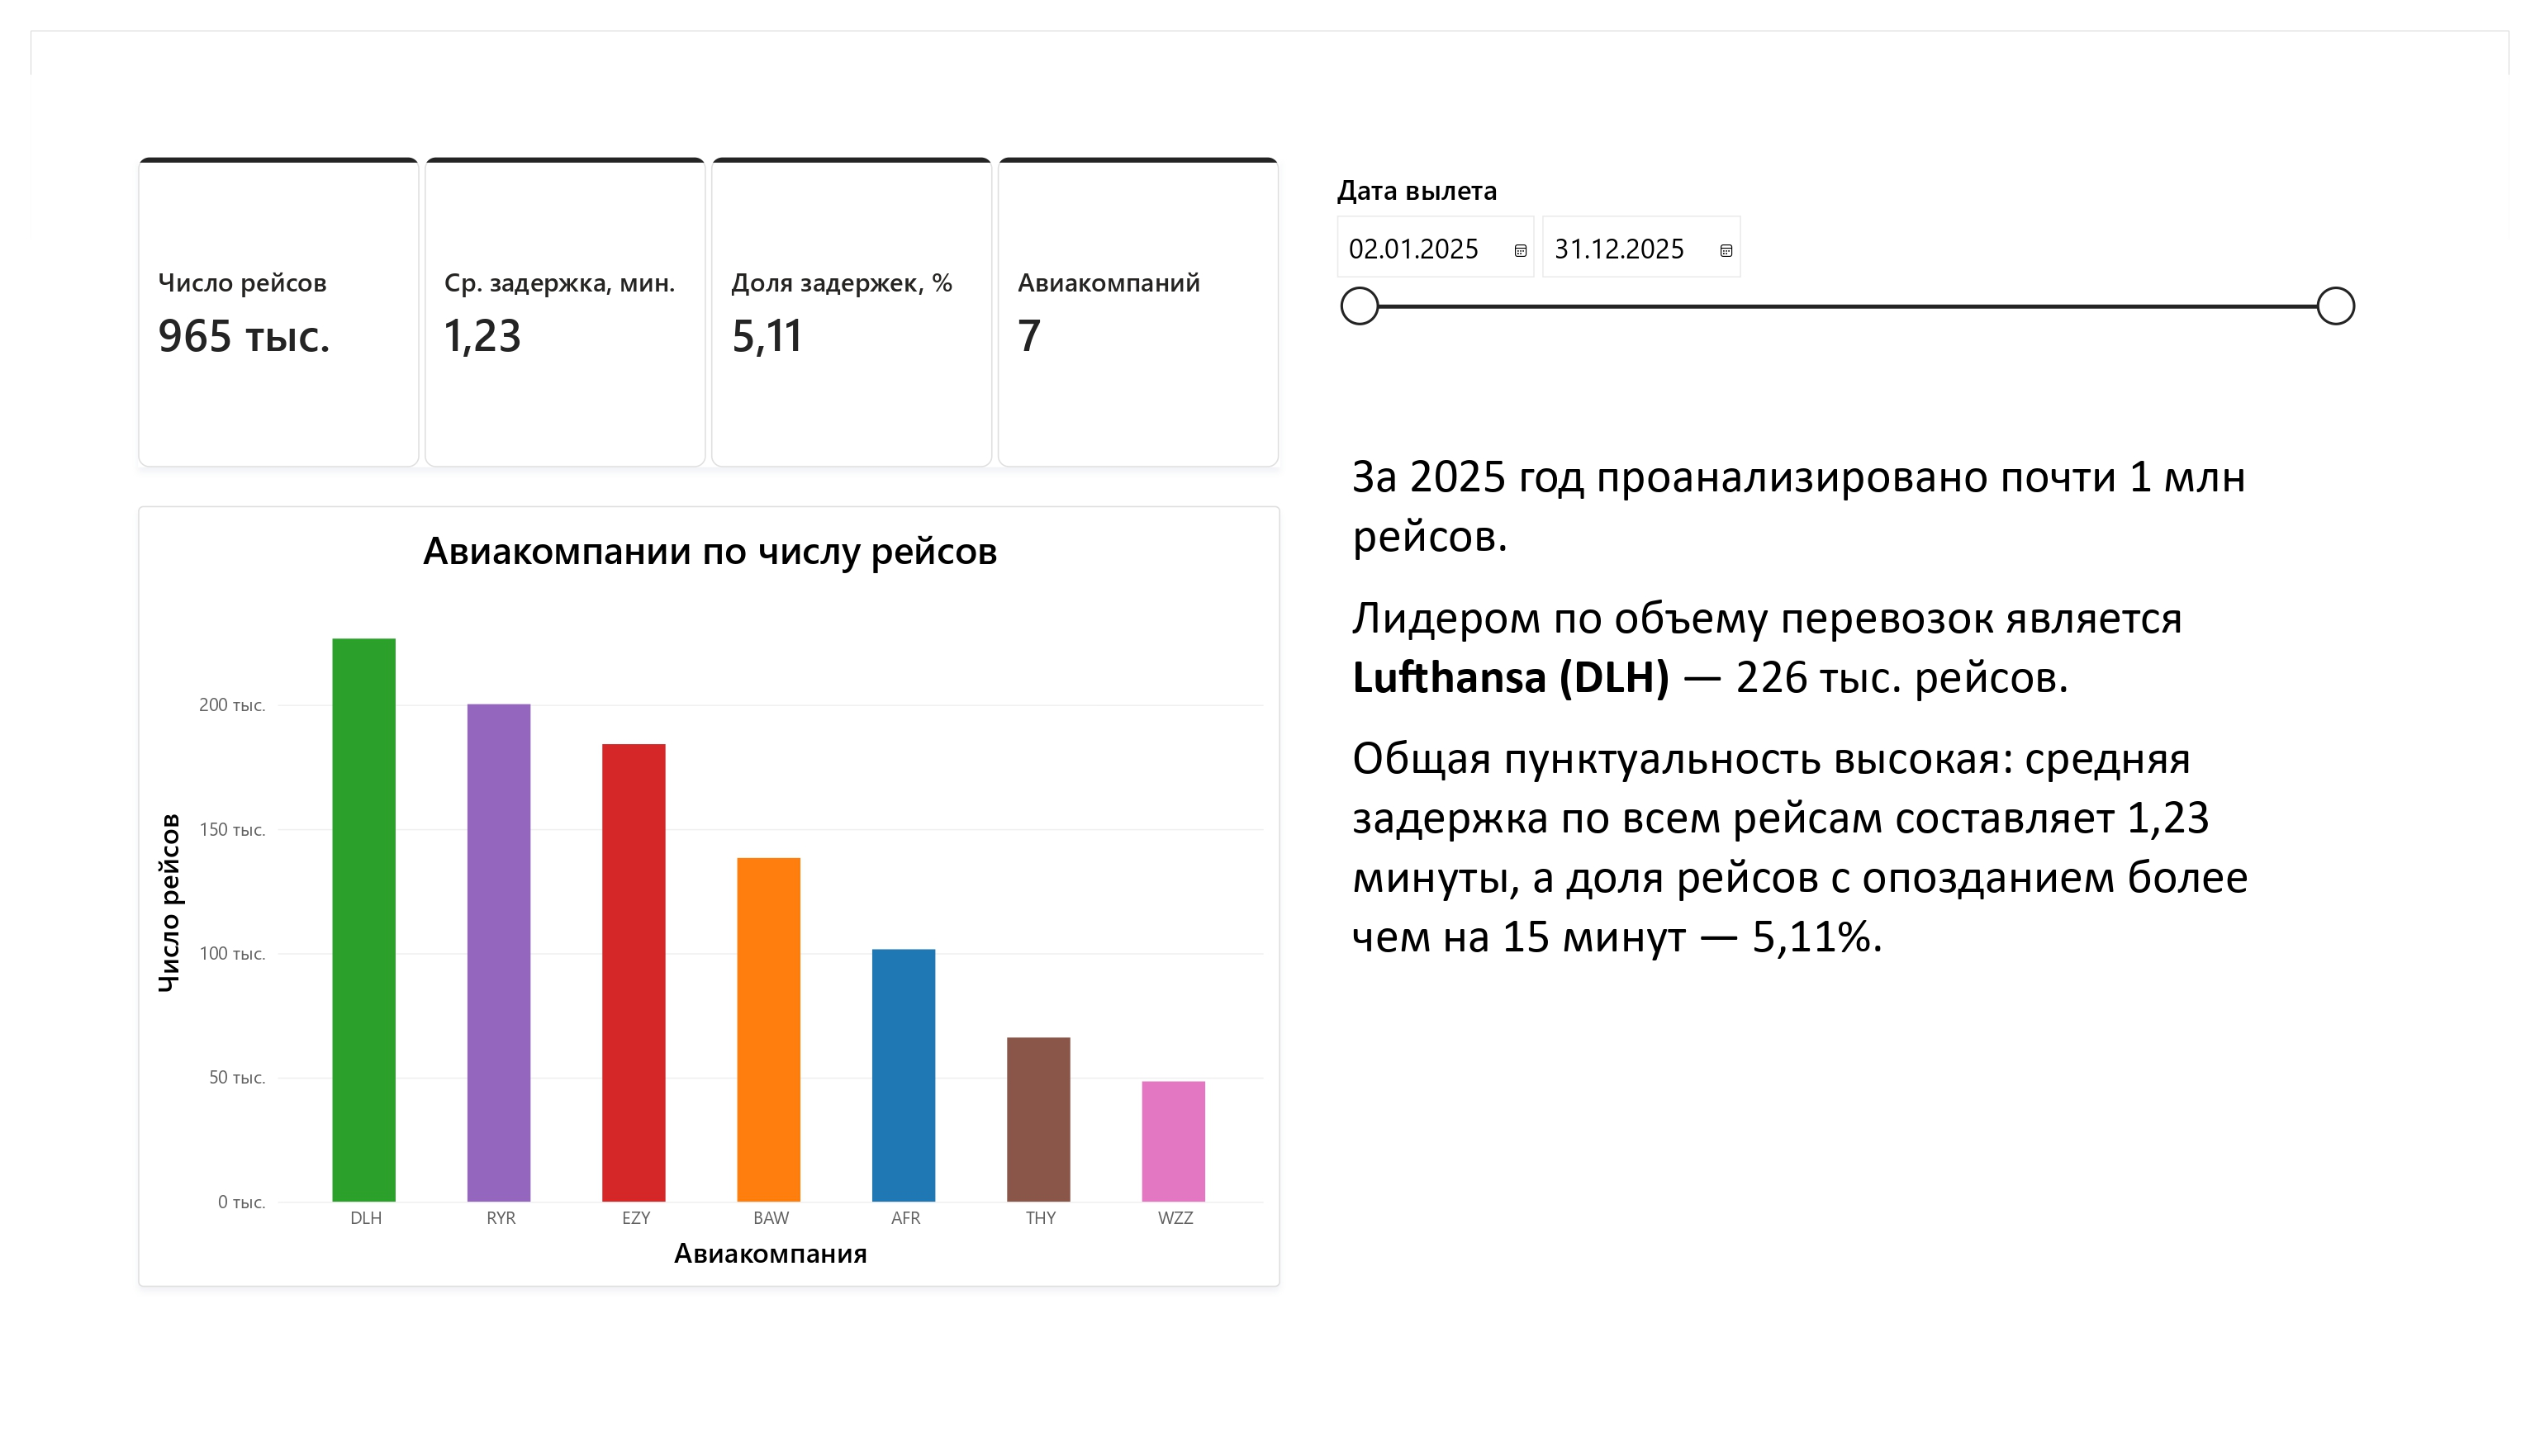

This screenshot's page, from the dashboard's own definition file:
{"tool":"powerbi","page":{"name":"Обзор","canvas":[1920,1080],"ordinal":0},"visuals":[{"type":"cardVisual","fields":{"Data":["flights.Total Flights","flights.Avg Delay (min)","flights.Late Rate %","flights.Total Airlines"]},"box":[82.5,97.5,885,240],"z":0},{"type":"columnChart","title":"Авиакомпании по числу рейсов","fields":{"Category":["flights.icao_operator"],"Y":["flights.Total Flights"]},"box":[82.5,367.5,885,605],"z":1000},{"type":"slicer","fields":{"Values":["flights.dof"]},"box":[1004,108,800,145],"z":2000},{"type":"textbox","box":[1024,320.5,740,652.5],"z":3000}]}

Visuals, with their boxes on the page's 1920x1080 design canvas (x1, y1, x2, y2). These are canvas units, not pixel positions in the 2540x1456 screenshot, which may show the page scaled, cropped or inside an application window:
cardVisual - flights.Total Flights x flights.Avg Delay (min): box(82, 98, 968, 338)
"Авиакомпании по числу рейсов" columnChart: box(82, 368, 968, 972)
slicer - flights.dof: box(1004, 108, 1804, 253)
textbox: box(1024, 320, 1764, 973)
